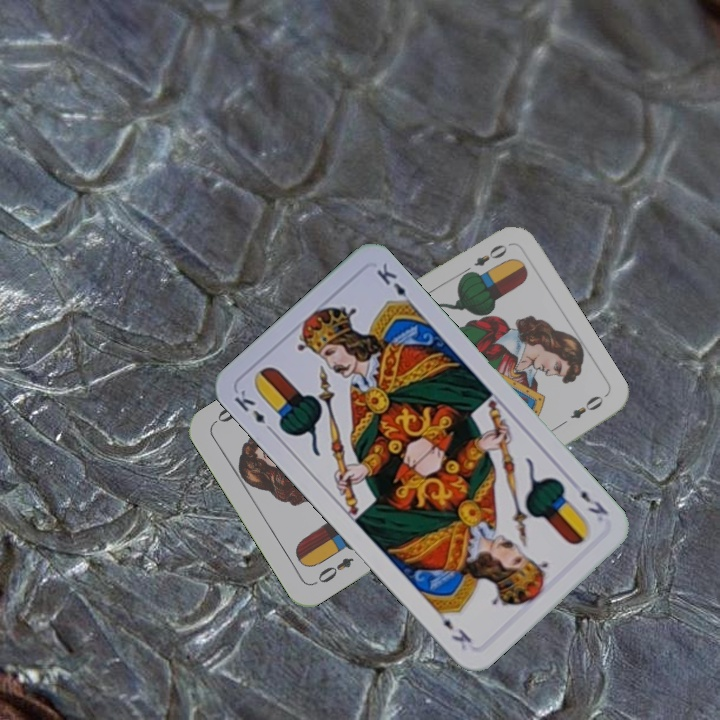EK: (229, 385, 278, 437), (576, 486, 611, 518)
EO: (457, 240, 510, 279), (309, 553, 356, 588)
